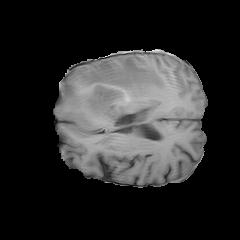glioma: (77, 55, 167, 123)
